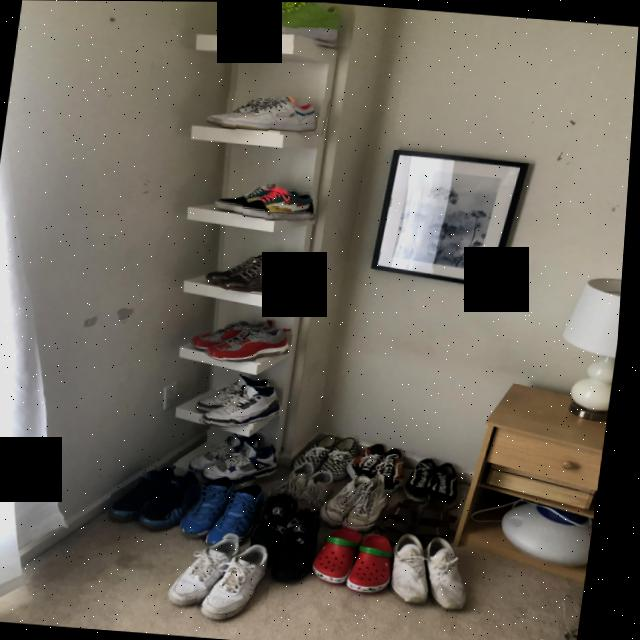shoe: (200, 536, 282, 626), (170, 527, 250, 617), (229, 1, 355, 51), (141, 456, 211, 535), (221, 91, 333, 139), (113, 457, 184, 529), (208, 479, 278, 552), (202, 381, 288, 434), (206, 436, 293, 488), (206, 322, 300, 368), (186, 469, 244, 542), (217, 253, 311, 298), (231, 180, 324, 223), (295, 429, 366, 482), (322, 469, 381, 530), (348, 472, 402, 534), (430, 458, 472, 510), (403, 453, 445, 504)
